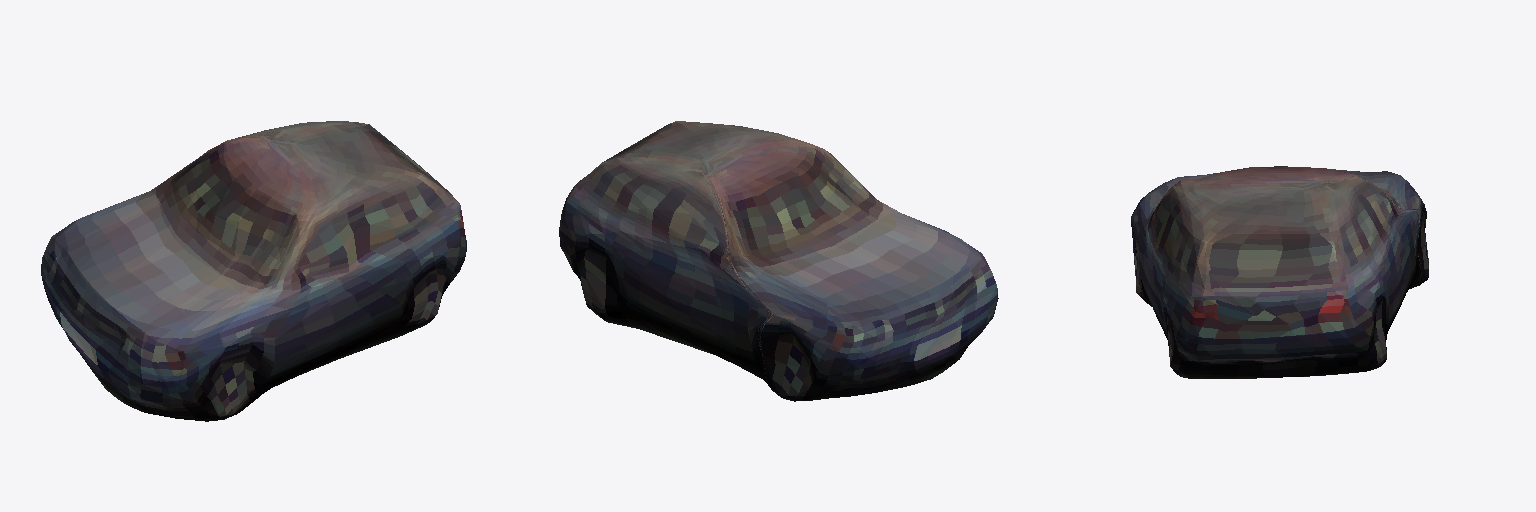
3 renders of one model, left to right at view 1: azimuth 30°, elevation 25°; view 2: azimuth 150°, elevation 25°; view 3: azimuth 270°, elevation 25°, orthographic.
Bounding box in the file's own units: 1 × 0.4976 × 0.7257.
1 materials, 1 textured.